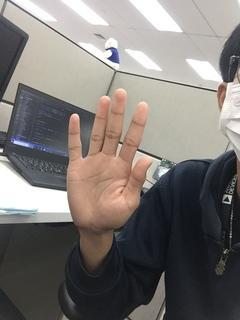hand: (64, 89, 155, 232)
